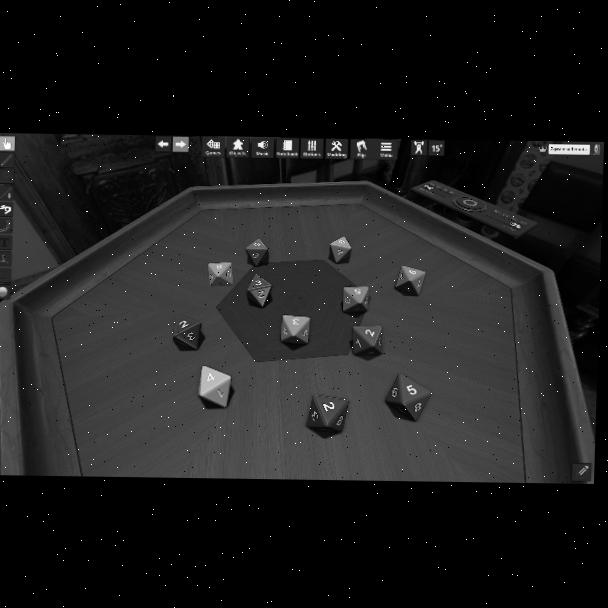d8: (387, 374, 430, 420), (307, 395, 347, 433), (198, 365, 231, 406), (173, 315, 202, 351), (351, 325, 381, 356), (247, 274, 272, 308), (396, 265, 424, 295), (280, 315, 308, 344), (342, 286, 368, 313), (245, 239, 269, 267), (329, 236, 351, 264), (208, 261, 232, 286)
